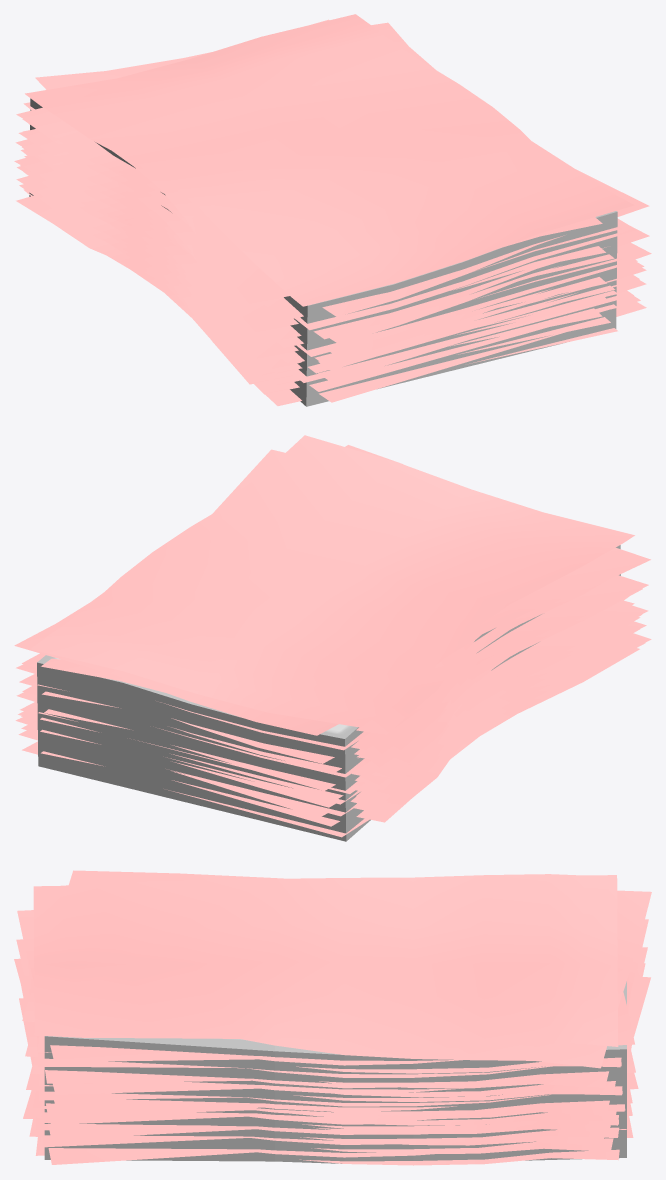
The model's file is SM_PapperStack2_A.fbx.
3 views of the same model, one above another, from view 1: azimuth 30°, elevation 25°; view 2: azimuth 150°, elevation 25°; view 3: azimuth 270°, elevation 25° (orthographic). The views are drawn at different scales.
Visible parts, largest first — view 1: SM_PapperStack2_A_LOD0; view 2: SM_PapperStack2_A_LOD0; view 3: SM_PapperStack2_A_LOD0.
Boxes of the visible parts, x1,y1,x2,y2 form: SM_PapperStack2_A_LOD0: (14,14,651,406); SM_PapperStack2_A_LOD0: (14,435,651,841); SM_PapperStack2_A_LOD0: (14,870,651,1165).
Bounding box in the file's own units: 17.35 × 23.05 × 5.28.
Materials: 1 (1 with a texture image).
